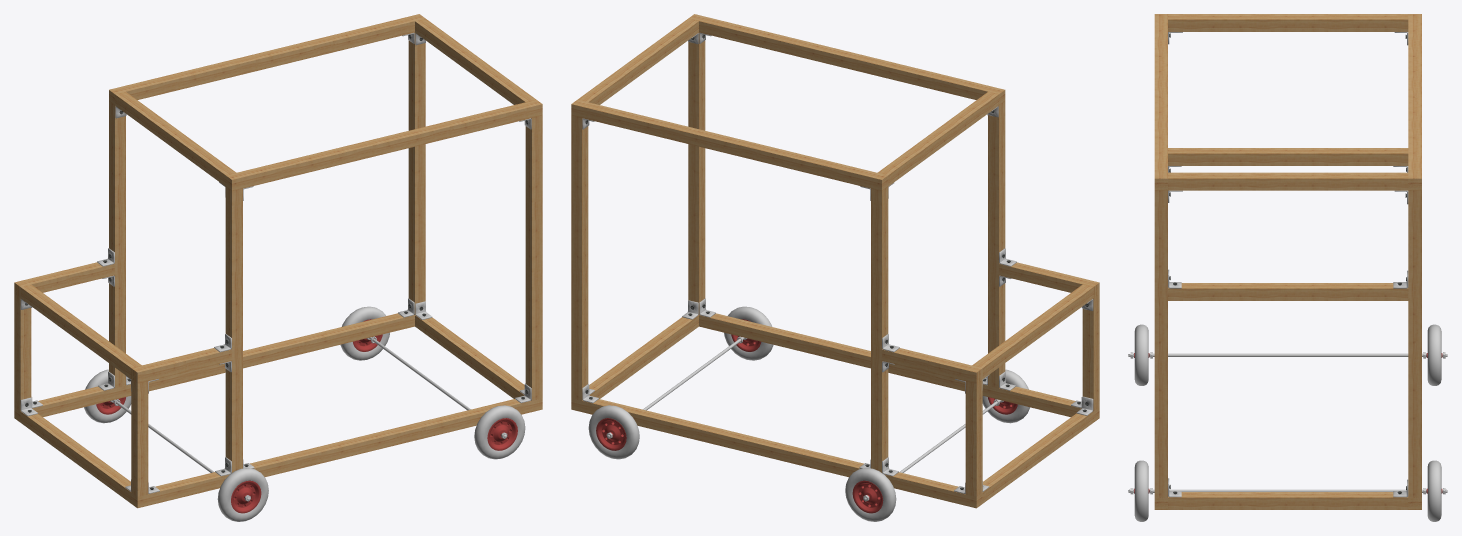
3 renders of one model, left to right at view 1: azimuth 30°, elevation 25°; view 2: azimuth 150°, elevation 25°; view 3: azimuth 270°, elevation 25°, orthographic. The views are drawn at different scales.
Visible parts, largest first — view 1: Куб.288, Куб.001, Куб.008, Куб.011, Куб.292, Куб.002, Куб.009, Куб.012, Куб.291, Куб.006, Куб.005, Куб.003 (+11 smaller); view 2: Куб.008, Куб.011, Куб.288, Куб.001, Куб.009, Куб.012, Куб.292, Куб.002, Куб.291, Куб.006, Куб.005, Куб.003 (+11 smaller); view 3: Куб.005, Куб.291, Куб.006, Куб.009, Куб.292, Куб.004, Куб.003, Куб.001, Куб.011, Цилиндр, Wheel_Tire_0.001, Wheel_Tire_0.003 (+3 smaller).
Boxes of the visible parts, <box> form: Куб.288: <box>131,398,542,508</box>; Куб.001: <box>225,99,542,191</box>; Куб.008: <box>14,313,414,422</box>; Куб.011: <box>109,14,425,105</box>; Куб.292: <box>525,115,542,400</box>; Куб.002: <box>225,187,242,472</box>; Куб.009: <box>408,32,425,314</box>; Куб.012: <box>109,101,125,388</box>; Куб.291: <box>20,284,141,378</box>; Куб.006: <box>115,91,236,186</box>; Куб.005: <box>415,18,535,104</box>; Куб.003: <box>20,411,131,503</box>; Куб.008: <box>571,398,982,508</box>; Куб.011: <box>571,99,888,191</box>; Куб.288: <box>699,313,1099,422</box>; Куб.001: <box>688,14,1005,105</box>; Куб.009: <box>571,115,588,400</box>; Куб.012: <box>871,187,888,472</box>; Куб.292: <box>688,32,705,314</box>; Куб.002: <box>988,101,1005,388</box>; Куб.291: <box>972,284,1093,378</box>; Куб.006: <box>877,91,998,186</box>; Куб.005: <box>578,18,698,104</box>; Куб.003: <box>982,411,1093,503</box>; Куб.005: <box>1168,172,1408,190</box>; Куб.291: <box>1168,148,1408,165</box>; Куб.006: <box>1168,14,1408,31</box>; Куб.009: <box>1408,190,1421,497</box>; Куб.292: <box>1154,190,1167,497</box>; Куб.004: <box>1168,492,1408,509</box>; Куб.003: <box>1168,283,1408,300</box>; Куб.001: <box>1154,14,1167,190</box>; Куб.011: <box>1408,14,1421,190</box>; Цилиндр: <box>1153,353,1423,356</box>; Wheel_Tire_0.001: <box>1427,324,1441,385</box>; Wheel_Tire_0.003: <box>1427,460,1441,521</box>.
Size of the model in its own units: 3 by 2.39 by 1.89.
